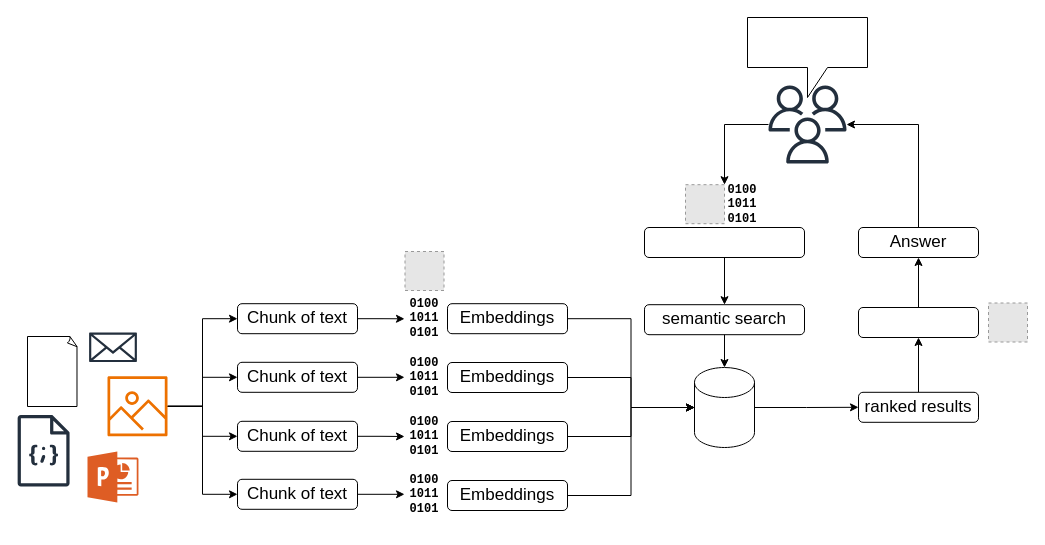
Some shapes in this 1045 by 545 pixel diagram are drawn without their labels. Grey dashed boxes stand in for pictures. The shapes that lost their labels are listed below. From the top down, each one's centre as x and y in pixels, then its label:
At [807,57]: "What is an 8D-Report?".
At [724,242]: "question embedding".
At [918,322]: "LLM".
At [52,371]: "PDF".
At [724,407]: "Index".
